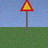sign: (20, 0, 34, 32)
